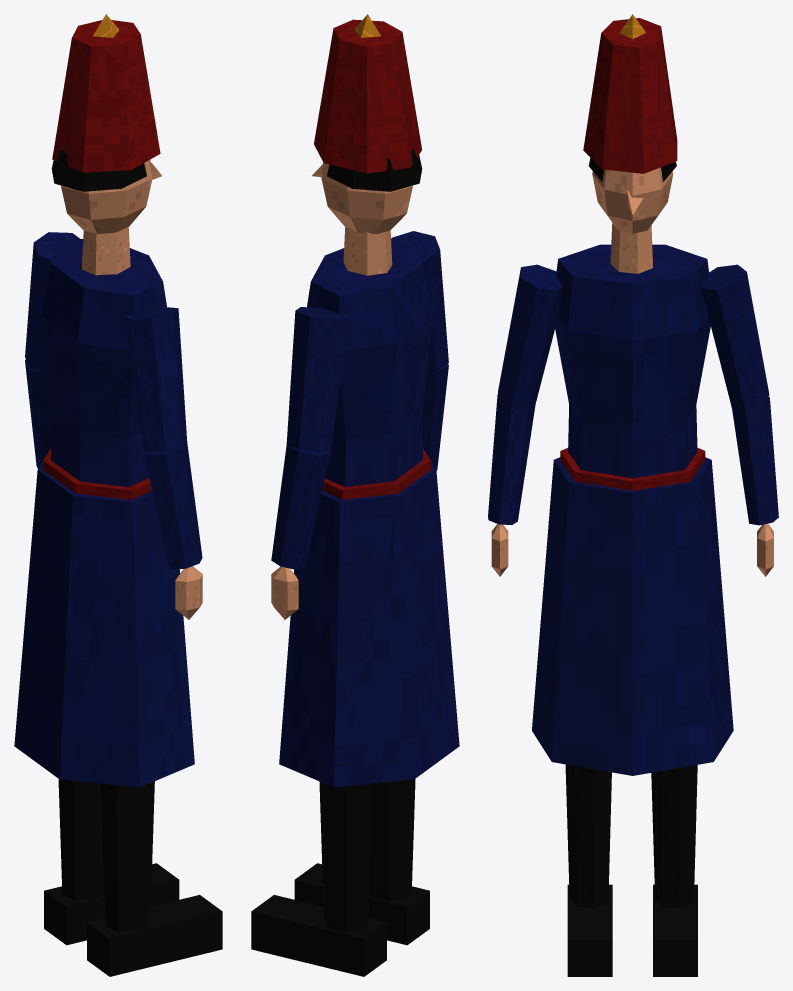
The model's file is madre.glb.
The picture shows the model from 3 angles, left to right: view 1: azimuth 30°, elevation 25°; view 2: azimuth 150°, elevation 25°; view 3: azimuth 270°, elevation 25°; orthographic projection.
Visible parts, largest first — view 1: faldon, torso, gorro, pierna_der, brazo_der, pie_der, pierna_izq, antebrazo_der, cabeza, pie_izq, brazo_izq, cuello (+4 smaller); view 2: faldon, torso, gorro, pierna_izq, brazo_izq, pie_izq, pierna_der, antebrazo_izq, cabeza, pie_der, brazo_der, cuello (+4 smaller); view 3: faldon, torso, gorro, brazo_izq, brazo_der, pierna_der, pierna_izq, antebrazo_izq, antebrazo_der, cabeza, pie_der, pie_izq (+4 smaller).
Boxes of the visible parts, bbox=[...] form: faldon: bbox=[14, 461, 194, 787]; torso: bbox=[41, 239, 166, 487]; gorro: bbox=[52, 20, 160, 172]; pierna_der: bbox=[101, 781, 154, 931]; brazo_der: bbox=[124, 307, 187, 452]; pie_der: bbox=[87, 895, 222, 976]; pierna_izq: bbox=[58, 779, 104, 900]; antebrazo_der: bbox=[143, 442, 202, 569]; cabeza: bbox=[61, 160, 161, 234]; pie_izq: bbox=[44, 863, 179, 945]; brazo_izq: bbox=[25, 232, 79, 373]; cuello: bbox=[82, 227, 130, 275]; faldon: bbox=[279, 461, 459, 787]; torso: bbox=[307, 239, 432, 487]; gorro: bbox=[314, 19, 421, 173]; pierna_izq: bbox=[319, 781, 373, 932]; brazo_izq: bbox=[286, 307, 349, 452]; pie_izq: bbox=[251, 895, 386, 976]; pierna_der: bbox=[369, 779, 415, 900]; antebrazo_izq: bbox=[271, 444, 330, 569]; cabeza: bbox=[312, 162, 412, 234]; pie_der: bbox=[294, 863, 429, 945]; brazo_der: bbox=[391, 231, 448, 372]; cuello: bbox=[343, 227, 392, 275]; faldon: bbox=[532, 457, 733, 775]; torso: bbox=[555, 244, 710, 478]; gorro: bbox=[583, 18, 677, 173]; brazo_izq: bbox=[701, 264, 769, 409]; brazo_der: bbox=[498, 264, 562, 409]; pierna_der: bbox=[565, 764, 611, 908]; pierna_izq: bbox=[651, 765, 697, 908]; antebrazo_izq: bbox=[732, 396, 778, 525]; antebrazo_der: bbox=[488, 394, 535, 524]; cabeza: bbox=[592, 167, 673, 233]; pie_der: bbox=[567, 884, 612, 976]; pie_izq: bbox=[653, 884, 697, 976].
Size of the model in its own units: 0.3 by 1.75 by 0.5.
Materials: 1 (1 with a texture image).
